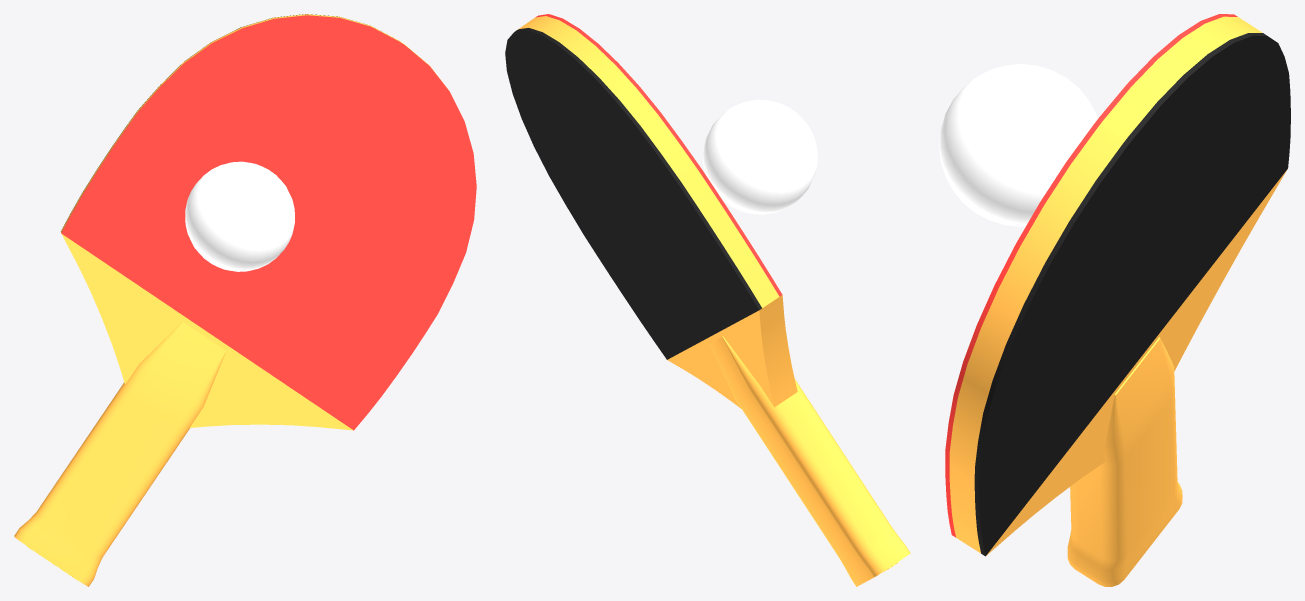
File: ping_pong.glb
3 renders of one model, left to right at view 1: azimuth 30°, elevation 25°; view 2: azimuth 150°, elevation 25°; view 3: azimuth 270°, elevation 25°, orthographic. The views are drawn at different scales.
Parts seen in each view (by area): view 1: Cube.822; view 2: Cube.822; view 3: Cube.822.
Part boxes in pixels (x1,y1,x2,y2): Cube.822: (14, 14, 476, 586); Cube.822: (505, 14, 910, 586); Cube.822: (939, 14, 1290, 586).
Size of the model in its own units: 2.07 by 2.33 by 1.02.
1 material, 1 textured.
